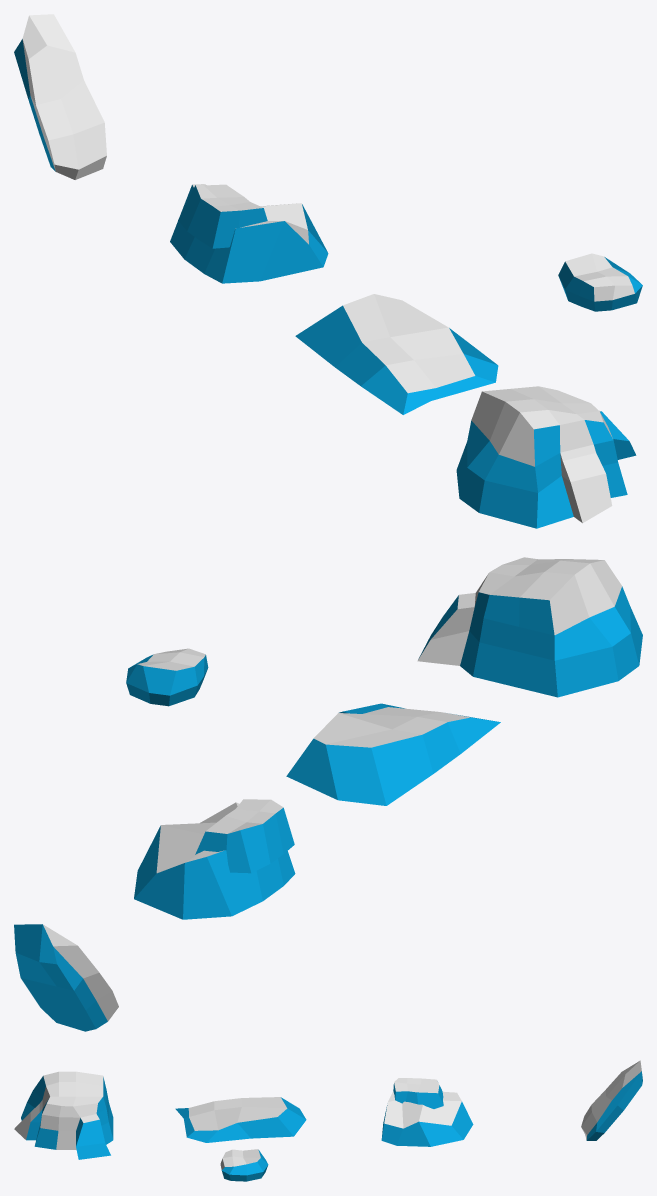
The model's file is rockAssets.fbx.
3 renders of one model, top to bottom at view 1: azimuth 30°, elevation 25°; view 2: azimuth 150°, elevation 25°; view 3: azimuth 270°, elevation 25°, orthographic. The views are drawn at different scales.
Visible parts, largest first — view 1: rock04, rock05, rock07, pCube3, pCube4, rock06; view 2: rock04, rock05, pCube3, rock07, pCube4, rock06; view 3: rock04, rock05, pCube3, rock07, rock06, pCube4.
Part boxes in pixels (<box>): rock04: <box>456,386,636,528</box>; rock05: <box>295,294,498,414</box>; rock07: <box>14,14,106,179</box>; pCube3: <box>170,184,328,283</box>; pCube4: <box>178,184,267,248</box>; rock06: <box>558,253,642,311</box>; rock04: <box>417,557,642,697</box>; rock05: <box>286,703,500,805</box>; pCube3: <box>134,802,295,919</box>; rock07: <box>14,924,118,1031</box>; pCube4: <box>195,799,294,873</box>; rock06: <box>126,648,208,706</box>; rock04: <box>14,1071,113,1159</box>; rock05: <box>175,1097,306,1142</box>; pCube3: <box>381,1091,473,1146</box>; rock07: <box>581,1060,642,1140</box>; rock06: <box>220,1149,268,1181</box>; pCube4: <box>393,1078,443,1108</box>.
Size of the model in its own units: 3.16 by 1.24 by 9.4.
